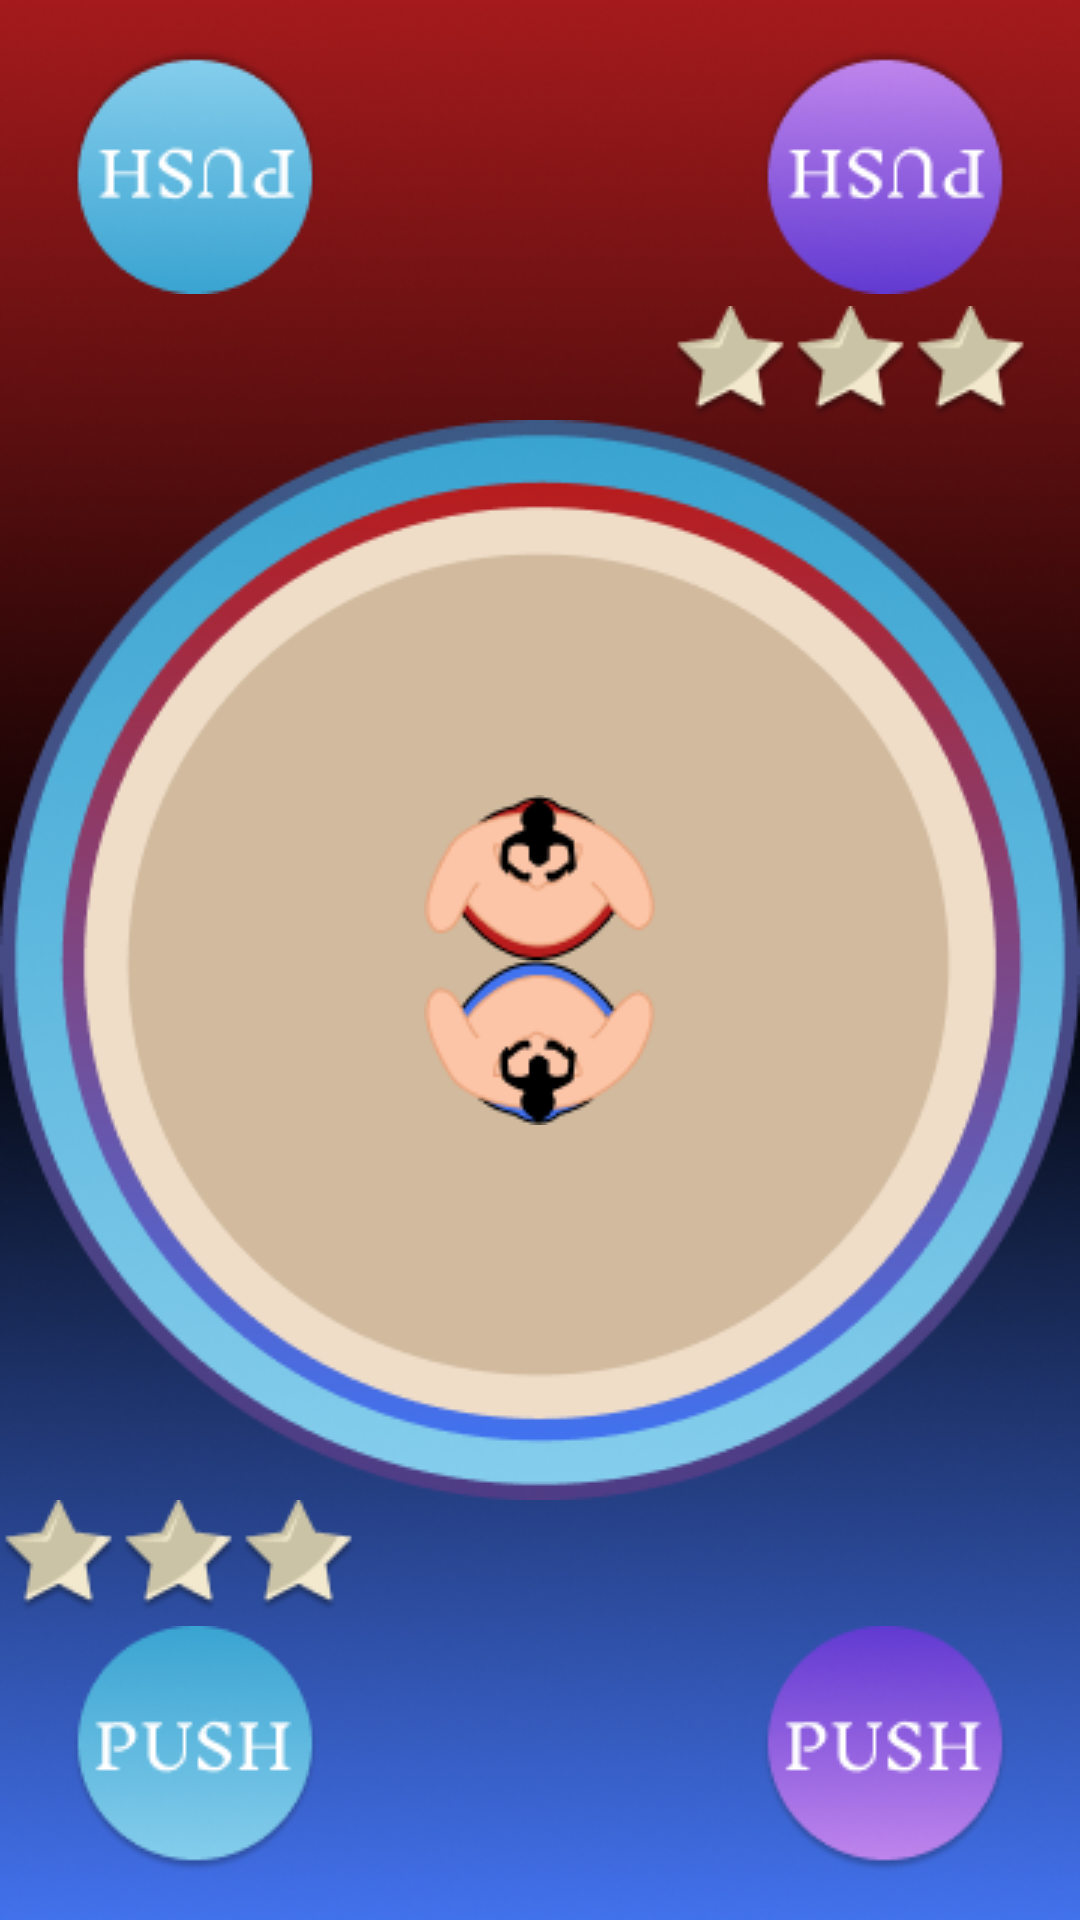

Named icons in this screenshot (1080px×1920px) and their bounding boxes, (x1, y1, x2, y2):
star: (677, 306, 784, 408), (797, 306, 904, 408), (917, 306, 1024, 408), (0, 1500, 120, 1605), (120, 1500, 240, 1605), (240, 1500, 360, 1605)
sumo: (427, 795, 652, 960), (427, 960, 652, 1125)
